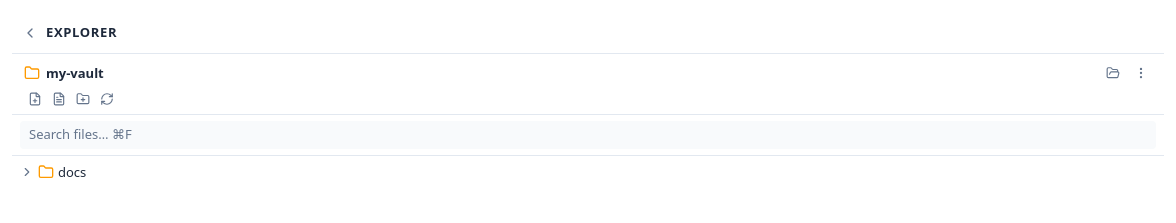
Test: ExplorerPanel — folder expand/collapse › FS-2.3-04: clicking a folder toggles its children visibility
expect the text "inside.md" is not shown: met
# Use getAllByText: after click, the header breadcrumb also shows 'docs'.
Click the text "docs" at {"x": 72, "y": 172}, box top-left (58, 163), bottom-right (86, 181)
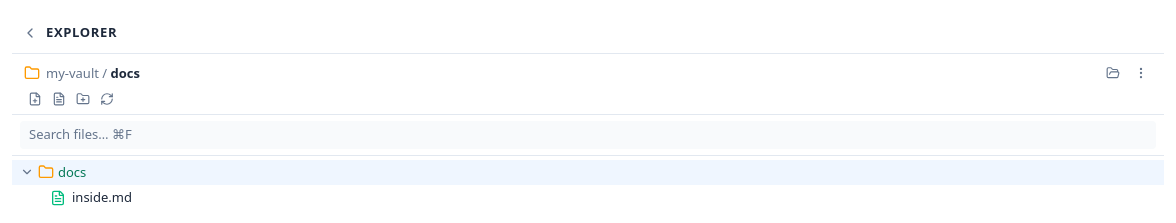
expect the text "inside.md" is shown: met, box top-left (72, 188), bottom-right (132, 206)
Click the text "docs" at {"x": 72, "y": 172}, box top-left (58, 163), bottom-right (86, 181)
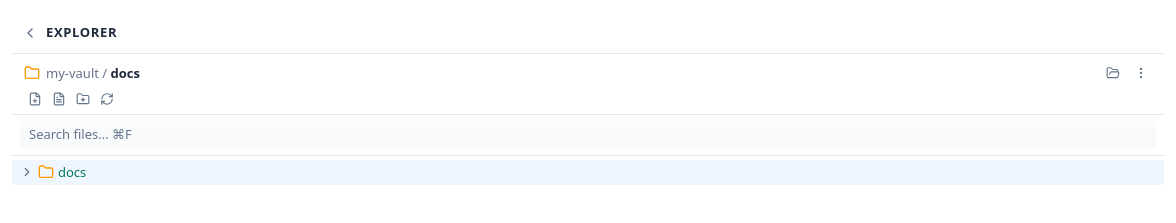
expect the text "inside.md" is gone: met
